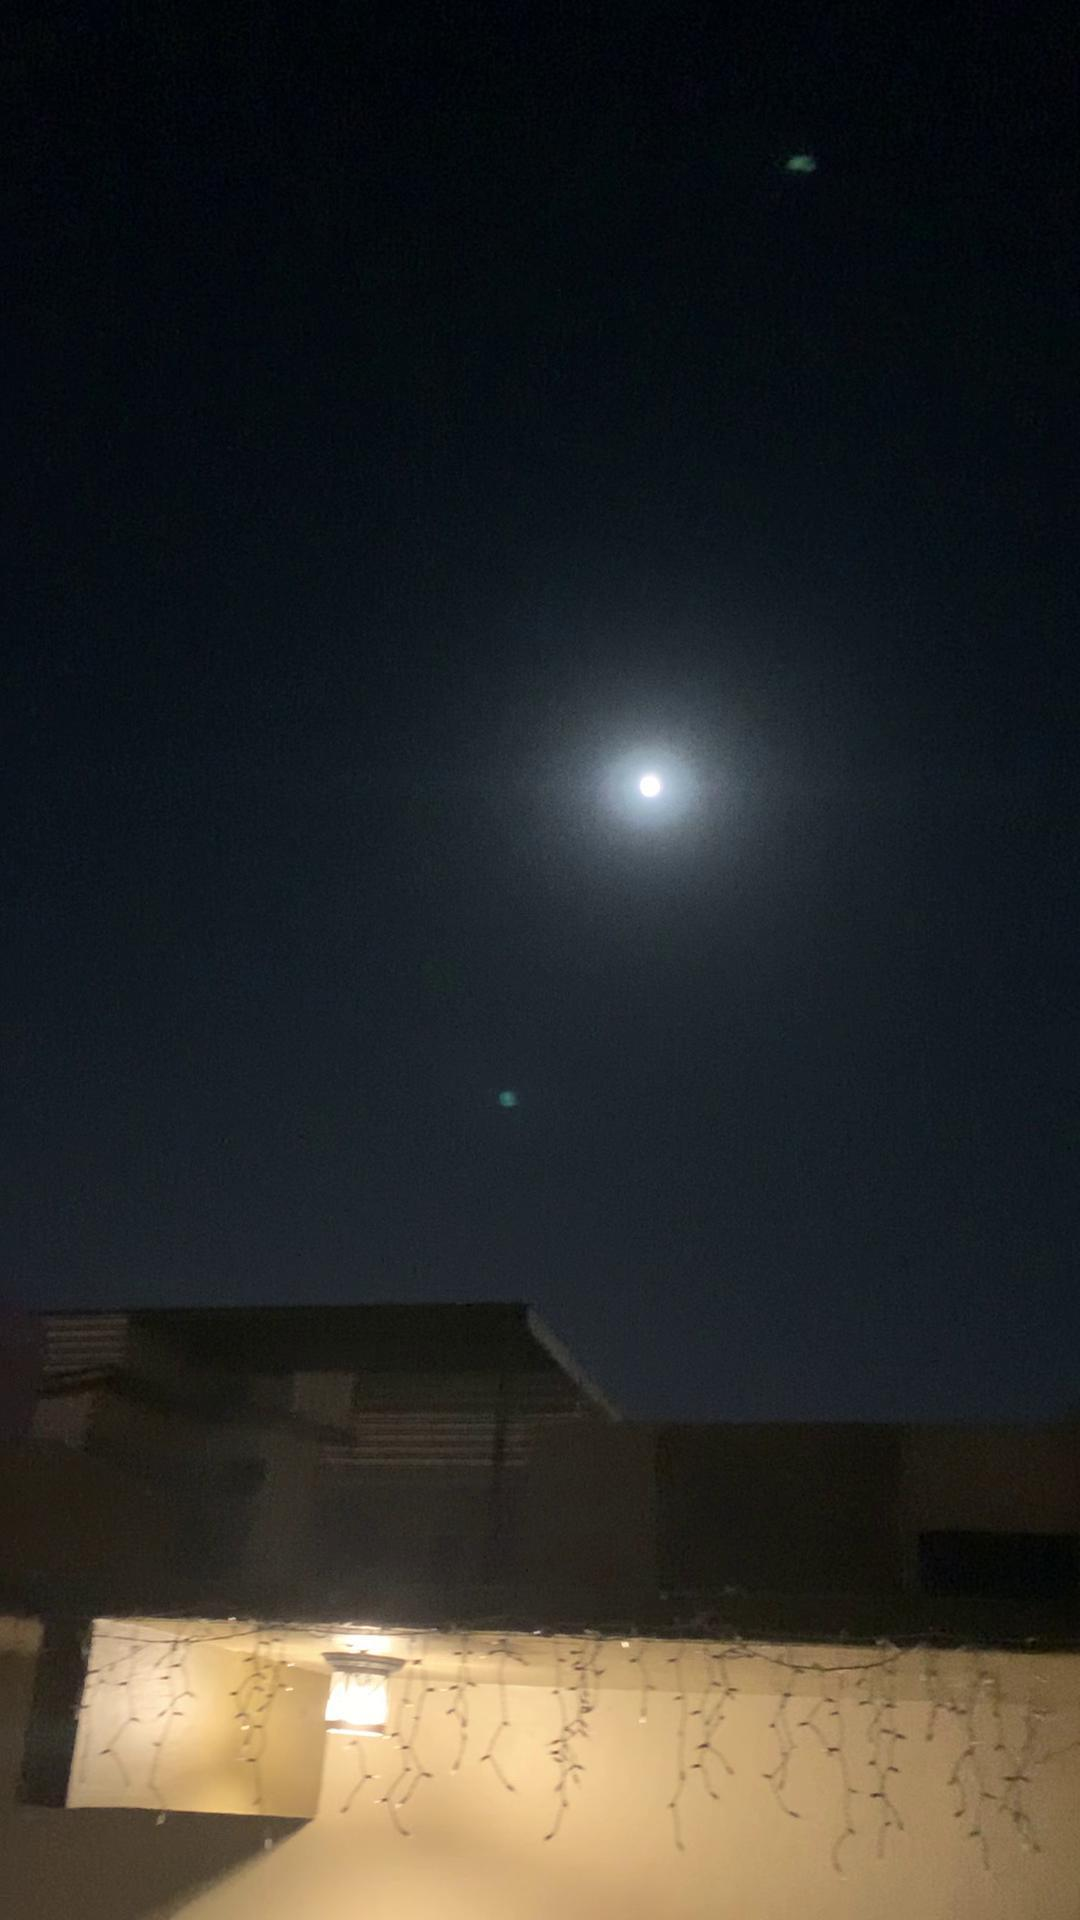moon: (611, 738, 698, 818)
